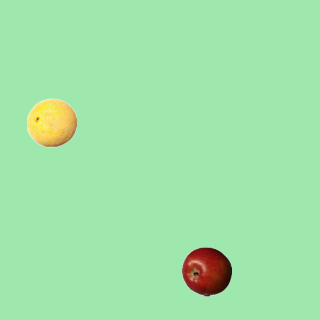Apple Braeburn: (181, 246, 231, 296)
Cantaloupe 1: (26, 97, 76, 147)
